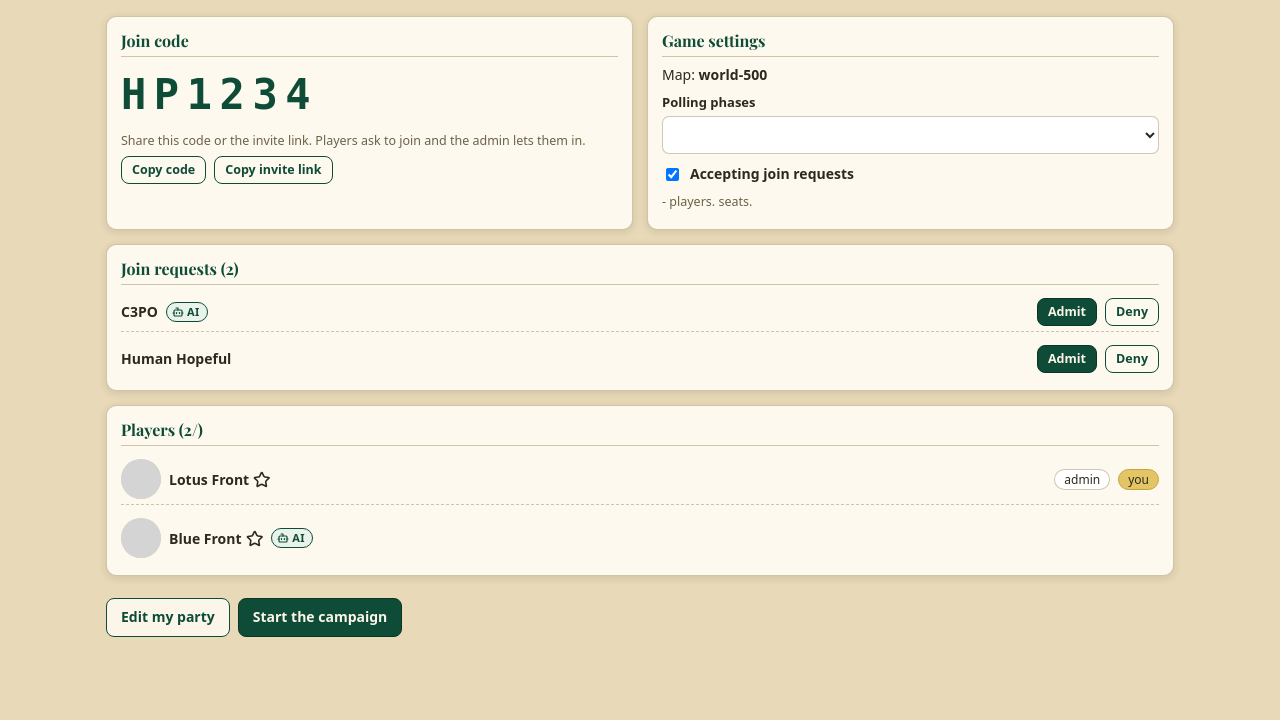
Test: Lobby › sharing the game › Copy code copies the code and says so
Click the button "Copy code": (164, 170) left=121, top=156, right=206, bottom=184
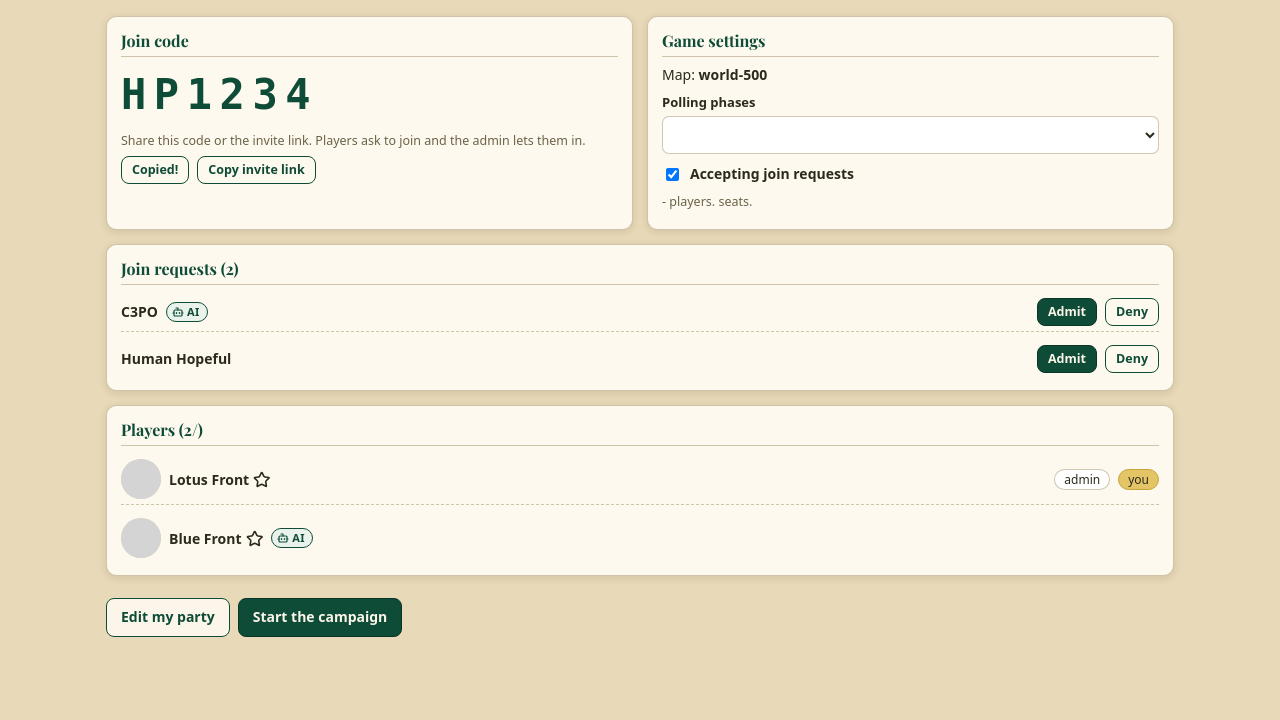
Expected: the button "Copied!" is shown, left=121, top=156, right=189, bottom=184
